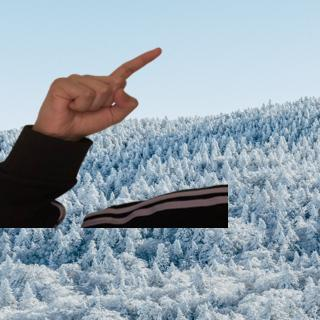WHY: (32, 43, 166, 139)
